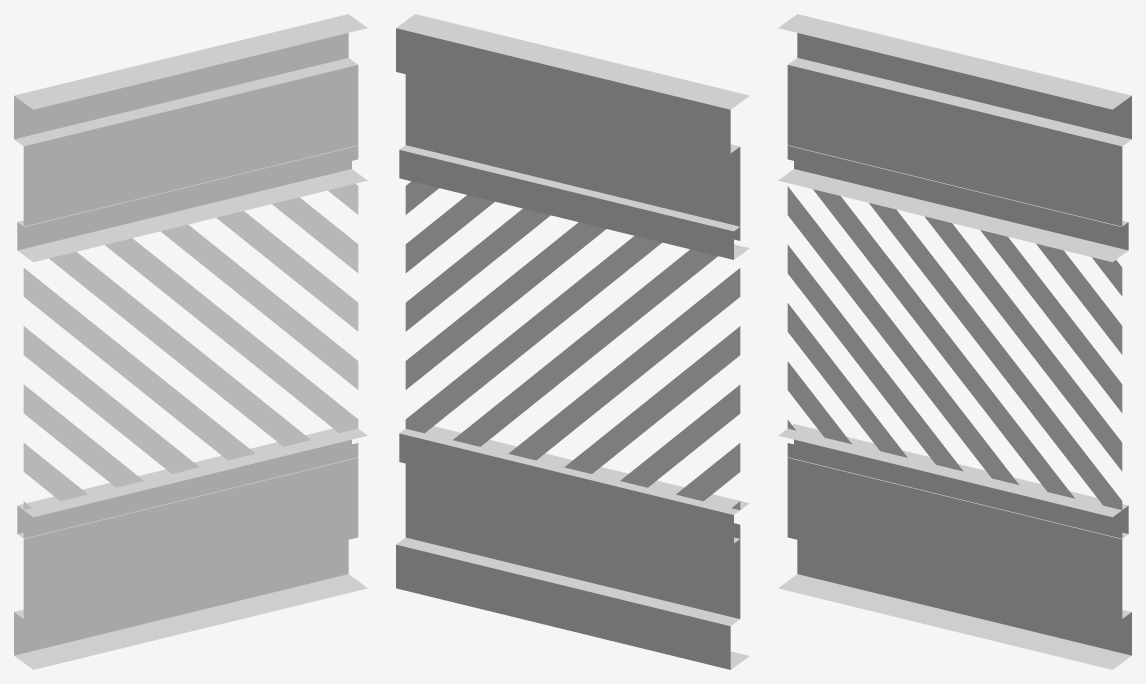
The model's file is proto_wall_windows_center_01.fbx.
The picture shows the model from 3 angles, left to right: view 1: azimuth 30°, elevation 25°; view 2: azimuth 150°, elevation 25°; view 3: azimuth 330°, elevation 25°; orthographic projection.
Parts seen in each view (by area): view 1: proto_wall_windows_center_01; view 2: proto_wall_windows_center_01; view 3: proto_wall_windows_center_01.
Part boxes in pixels (x1,y1,x2,y2): proto_wall_windows_center_01: (14,14,367,669); proto_wall_windows_center_01: (396,14,749,669); proto_wall_windows_center_01: (778,14,1131,669).
Bounding box in the file's own units: 200 × 320 × 20.
